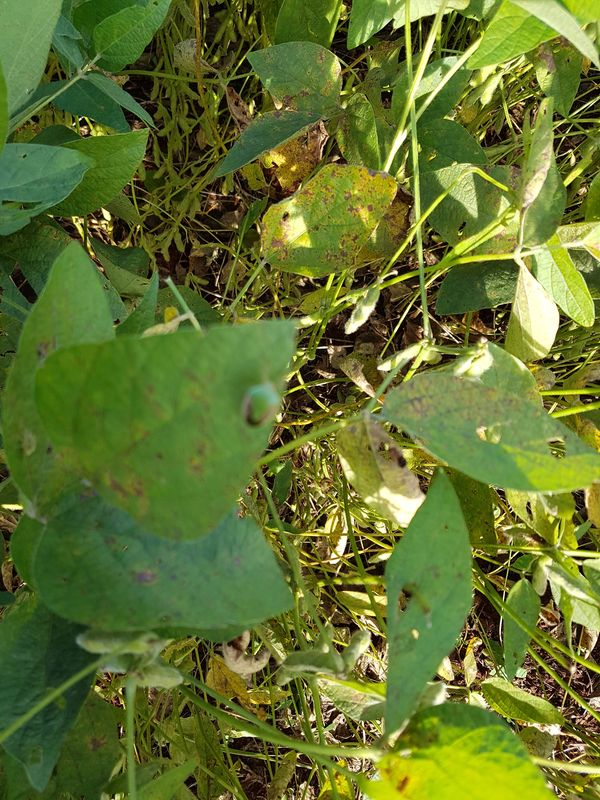Edessa_meditabunda: (230, 366, 290, 442)
